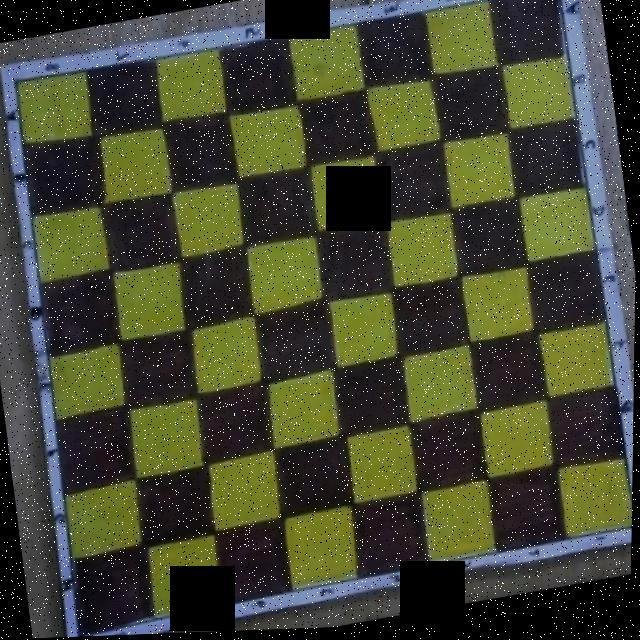chess-table-corners: (76, 632, 85, 638), (13, 78, 20, 84), (632, 526, 634, 534)
